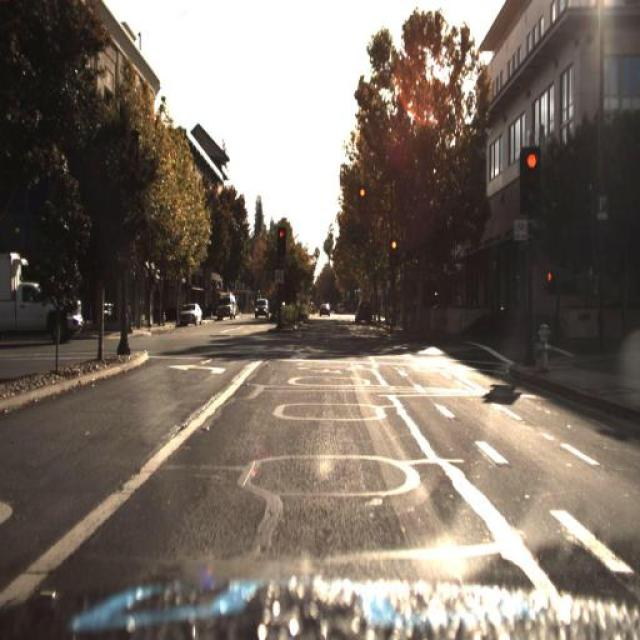car: (1, 246, 88, 348), (355, 292, 376, 322), (179, 305, 205, 327), (215, 294, 237, 320), (255, 296, 267, 319)
trafficLight-Green: (354, 183, 366, 208)
trafficLight-RedLeft: (520, 147, 542, 208)
trafficLight-Yellow: (276, 227, 286, 251)
trafficLight-YellowLeft: (387, 231, 397, 260)
